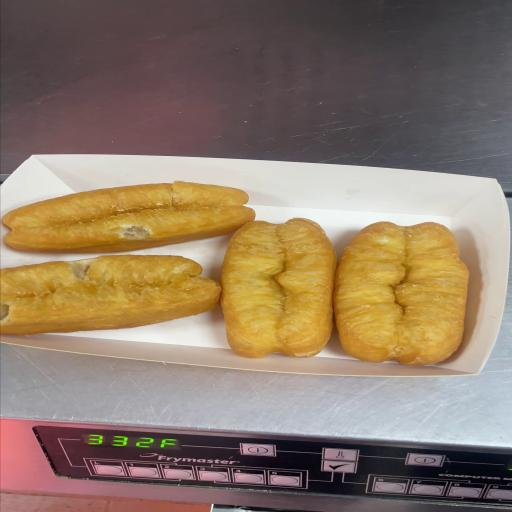brand_golden_defect: (0, 183, 256, 252), (0, 256, 221, 334)
brand_golden_good: (222, 220, 466, 364)
